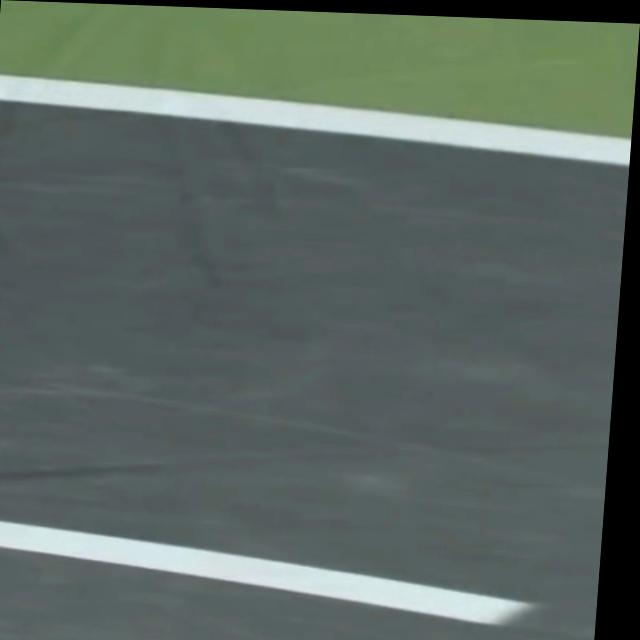center: (0, 522, 535, 626)
right: (0, 76, 631, 168)
